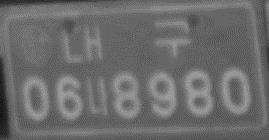0: (219, 67, 252, 116), (20, 76, 52, 121)
6: (55, 73, 84, 121)
8: (183, 69, 215, 118), (112, 71, 141, 121)
9: (146, 72, 178, 118)
나: (83, 74, 111, 118)
대구_D: (61, 18, 193, 65)
영: (14, 22, 55, 68)
